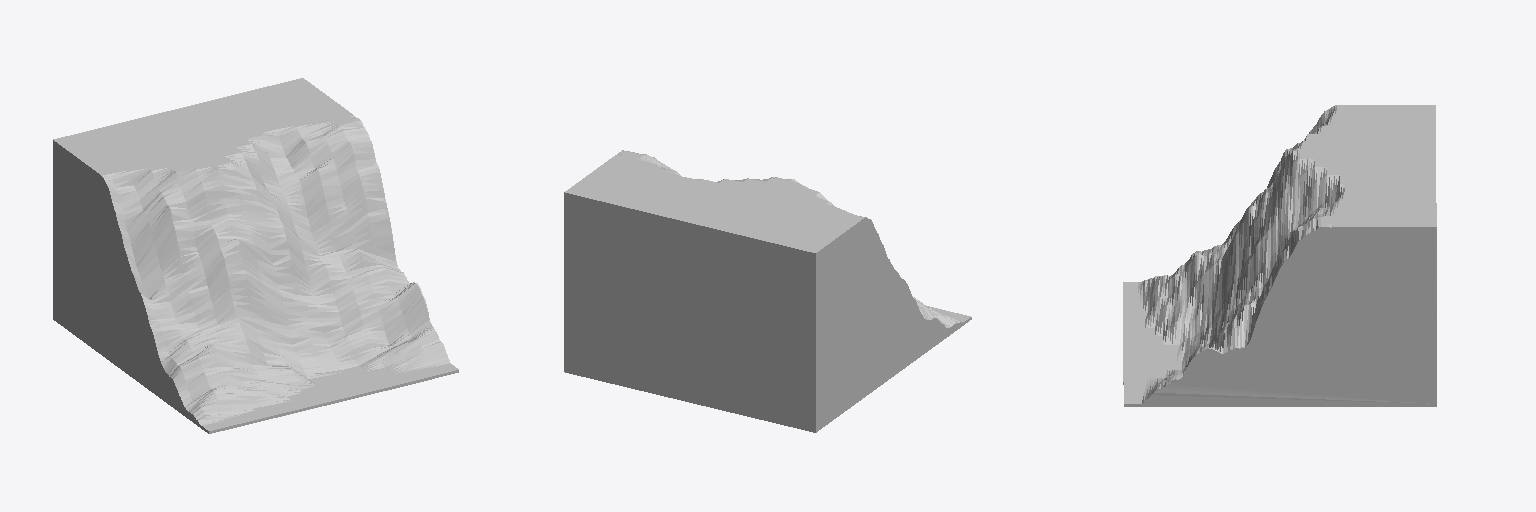
File: F5Clliff.obj
3 views of the same model, side by side, from view 1: azimuth 30°, elevation 25°; view 2: azimuth 150°, elevation 25°; view 3: azimuth 270°, elevation 25° (orthographic).
Visible parts, largest first — view 1: Cliff_Segment_11_Landscape.006; view 2: Cliff_Segment_11_Landscape.006; view 3: Cliff_Segment_11_Landscape.006.
Part boxes in pixels (x1,y1,x2,y2): Cliff_Segment_11_Landscape.006: (53,78,458,433); Cliff_Segment_11_Landscape.006: (564,150,971,432); Cliff_Segment_11_Landscape.006: (1123,105,1436,406).
Size of the model in its own units: 1.85 by 1.28 by 2.01.